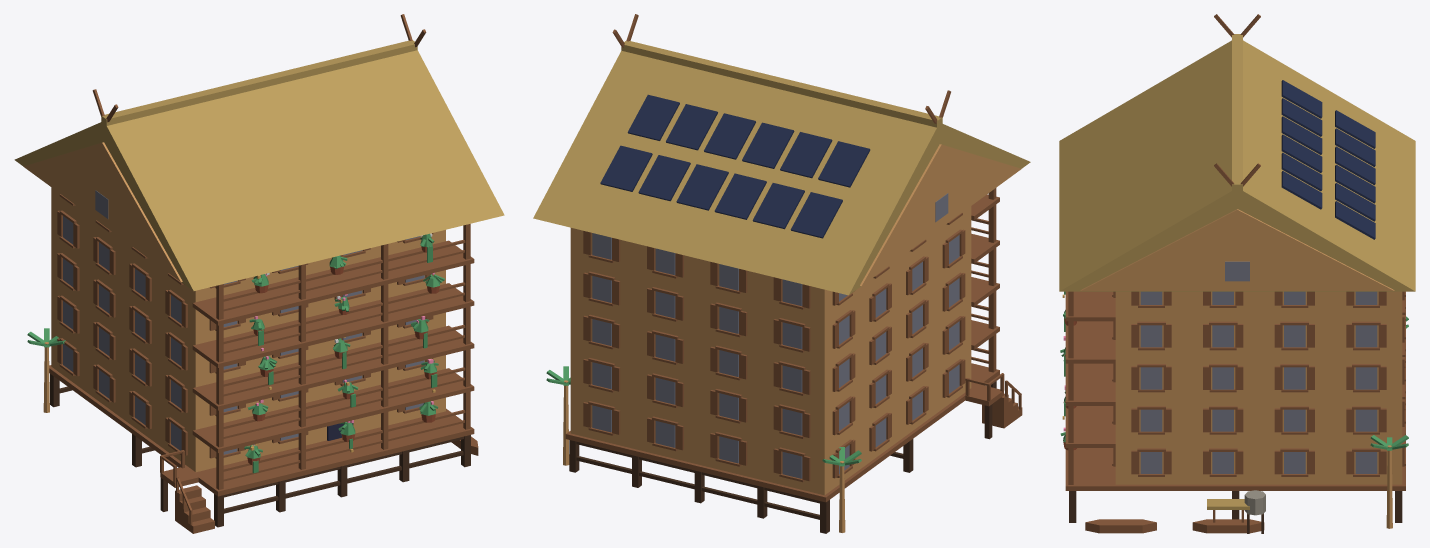
File: house-2x2-5f-stilt-a-solar.glb
The picture shows the model from 3 angles, left to right: view 1: azimuth 30°, elevation 25°; view 2: azimuth 150°, elevation 25°; view 3: azimuth 270°, elevation 25°; orthographic projection. The views are drawn at different scales.
Parts seen in each view (by area): view 1: house-2x2-5f-stilt-a-solar; view 2: house-2x2-5f-stilt-a-solar; view 3: house-2x2-5f-stilt-a-solar.
Boxes of the visible parts, x1,y1,x2,y2 form: house-2x2-5f-stilt-a-solar: [14, 14, 504, 533]; house-2x2-5f-stilt-a-solar: [533, 14, 1030, 533]; house-2x2-5f-stilt-a-solar: [1059, 14, 1415, 533].
Size of the model in its own units: 2.02 by 2.29 by 1.99.
1 material, 1 textured.
